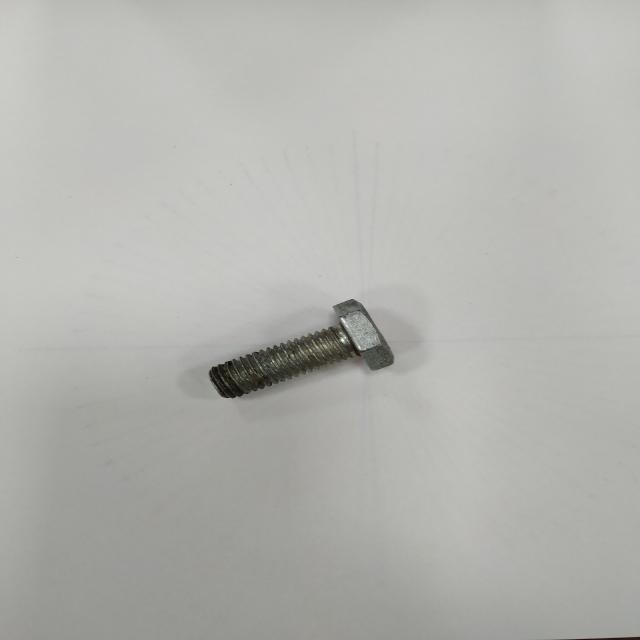Bolt: (210, 300, 393, 398)
